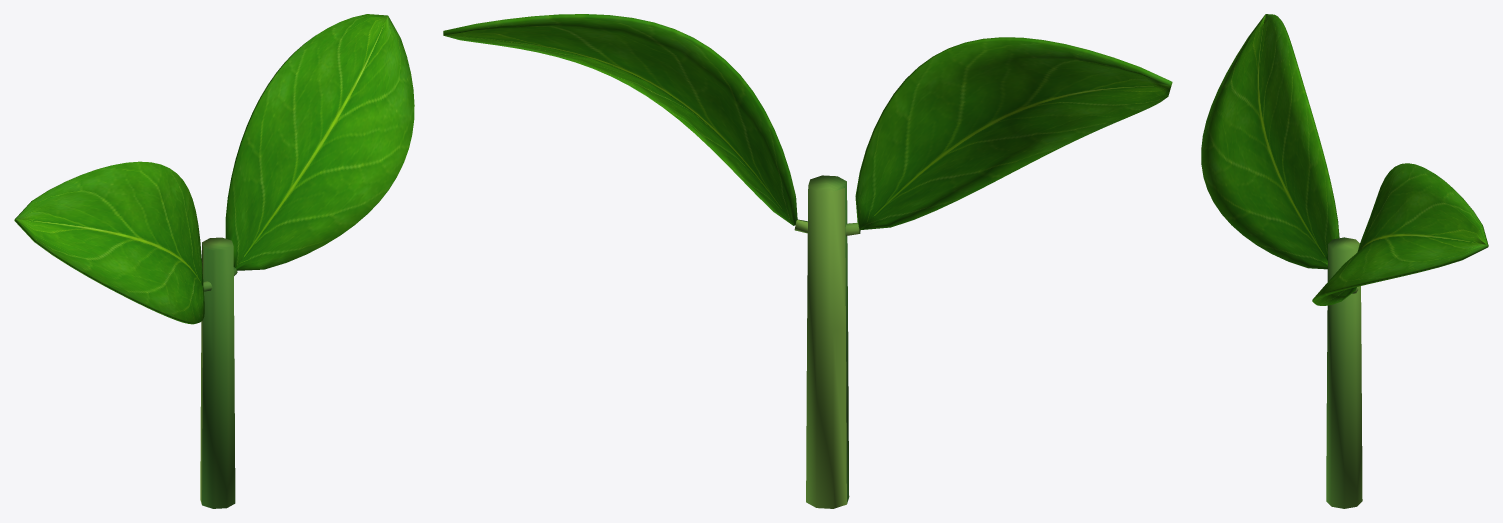
Rendered from NP_Jasmine_Sprout.fbx.
The picture shows the model from 3 angles, left to right: view 1: azimuth 30°, elevation 25°; view 2: azimuth 150°, elevation 25°; view 3: azimuth 270°, elevation 25°; orthographic projection. The views are drawn at different scales.
Parts seen in each view (by area): view 1: NP_Jasmine_Sprout; view 2: NP_Jasmine_Sprout; view 3: NP_Jasmine_Sprout.
Part boxes in pixels (x1=…): NP_Jasmine_Sprout: x1=14, y1=14, x2=414, y2=508; NP_Jasmine_Sprout: x1=443, y1=14, x2=1172, y2=508; NP_Jasmine_Sprout: x1=1201, y1=14, x2=1488, y2=508.
Bounding box in the file's own units: 24.55 × 19.18 × 12.68.
